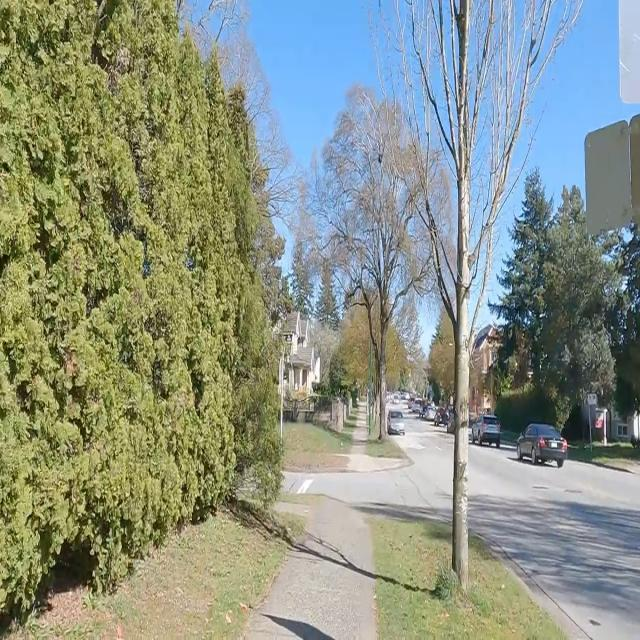Automobile: (517, 423, 567, 466), (472, 415, 500, 447), (388, 407, 403, 434)
Road: (469, 445, 639, 639), (286, 420, 451, 523)
Sidewalk: (247, 495, 377, 639), (343, 453, 403, 471)
